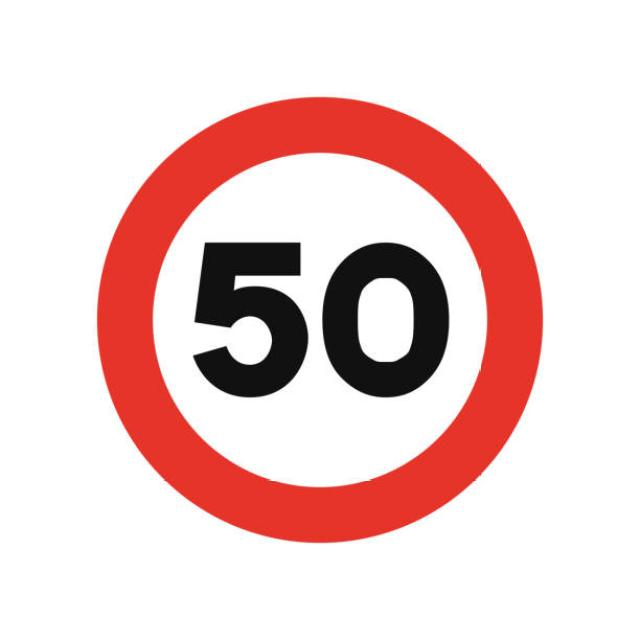SPEED_LIMIT_50: (88, 93, 552, 552)
